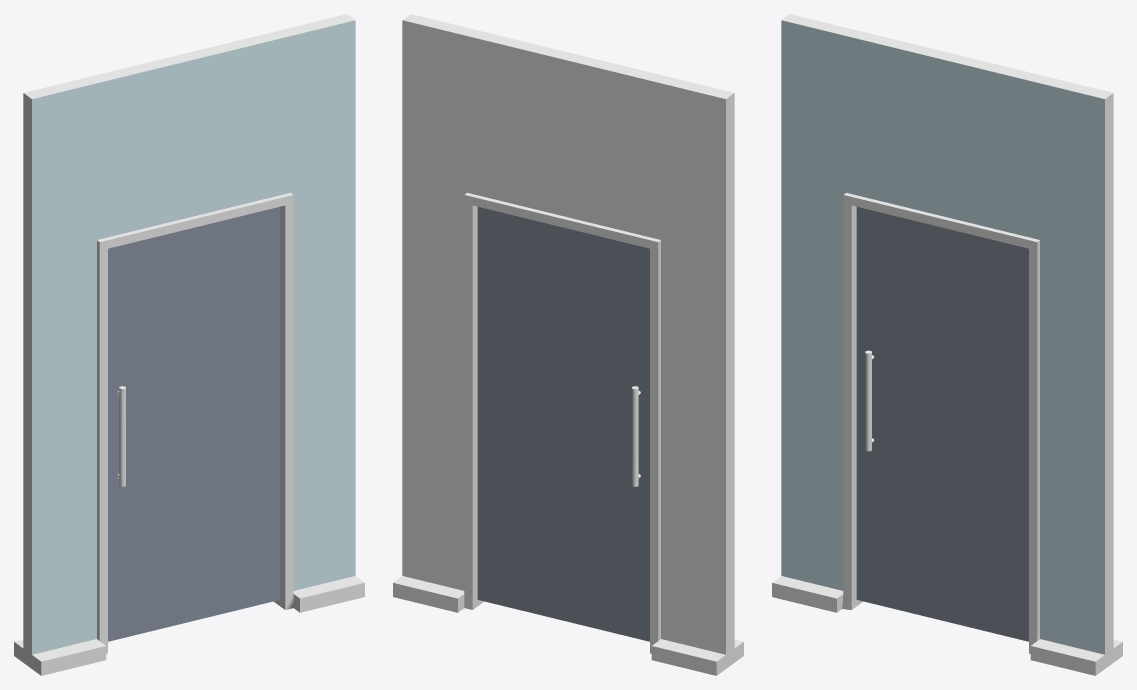
The model's file is 20_wall(door).FBX.
The picture shows the model from 3 angles, left to right: view 1: azimuth 30°, elevation 25°; view 2: azimuth 150°, elevation 25°; view 3: azimuth 330°, elevation 25°; orthographic projection.
Visible parts, largest first — view 1: 20_wall(door2), 20_wall(door1); view 2: 20_wall(door2), 20_wall(door1); view 3: 20_wall(door2), 20_wall(door1).
Part boxes in pixels (box(x1,y1,x2,y2)): 20_wall(door2): box(14, 14, 364, 675); 20_wall(door1): box(108, 207, 280, 641); 20_wall(door2): box(393, 14, 743, 675); 20_wall(door1): box(477, 207, 649, 641); 20_wall(door2): box(772, 14, 1122, 675); 20_wall(door1): box(856, 207, 1028, 641).
Bounding box in the file's own units: 256 × 432 × 37.56.
